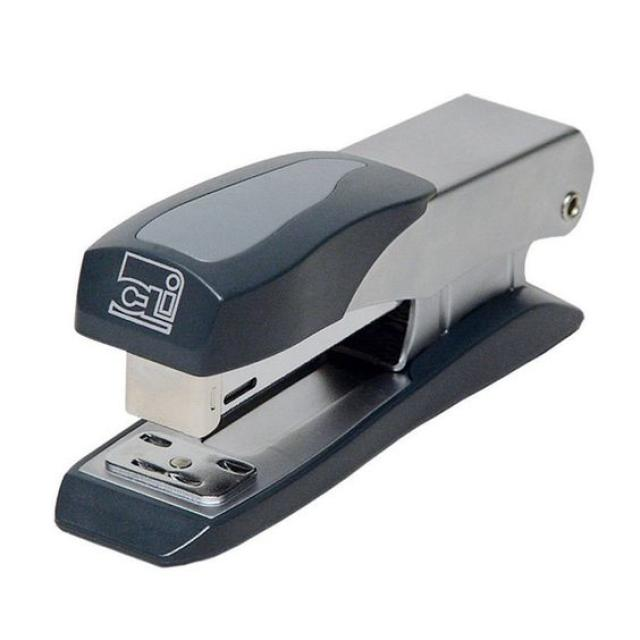Stapler: (38, 69, 612, 579)
